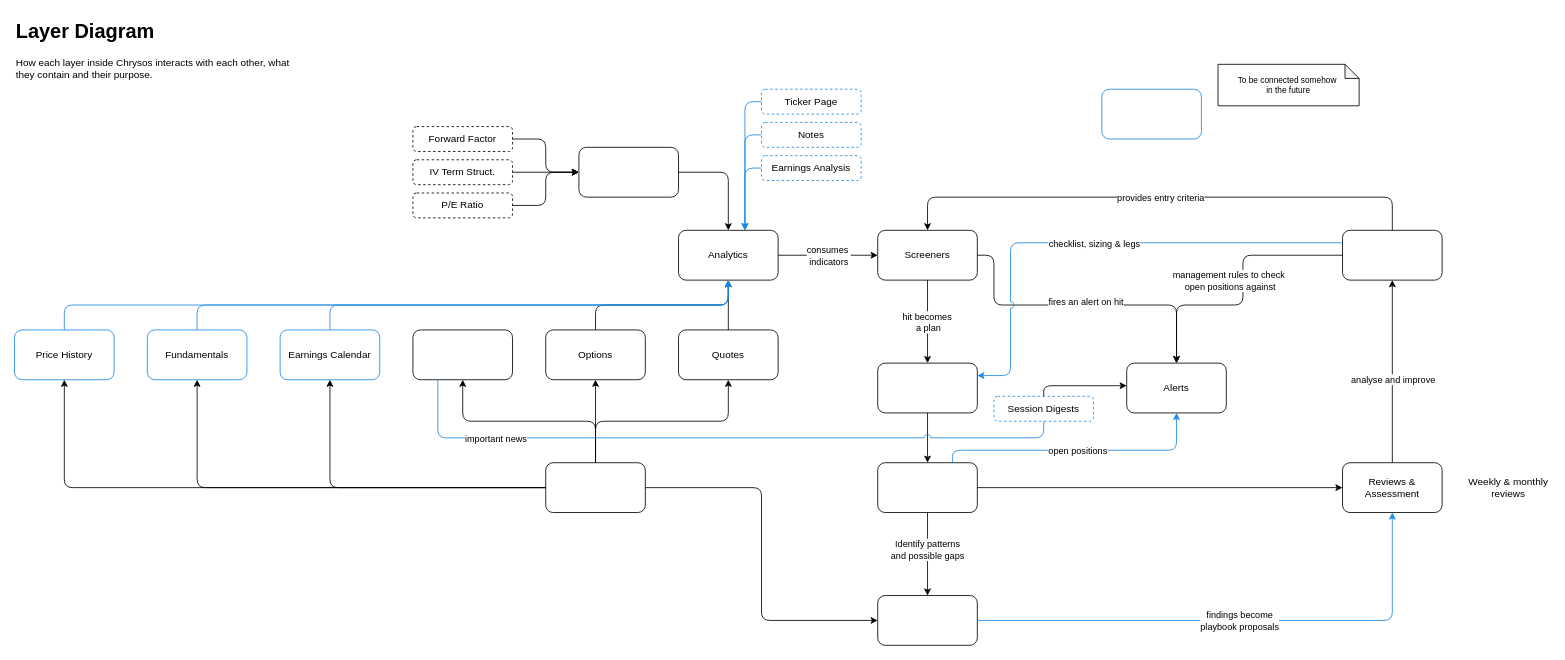
The diagram is 1565 pixels wide and 660 high, and some of its shapes have lost their labels. The shapes that lost their labels are listed below. From the top down, each one's box as (x1, y1, x2, y2) in pixels, then its label:
(1101, 88, 1201, 139): Watchlists
(578, 146, 679, 197): Indicator Registry
(1342, 229, 1442, 280): Playbooks
(412, 329, 513, 380): News
(877, 362, 977, 413): Journal
(545, 462, 645, 513): Data
(877, 462, 977, 513): Trade Logs
(877, 595, 977, 645): ML Models (later)
